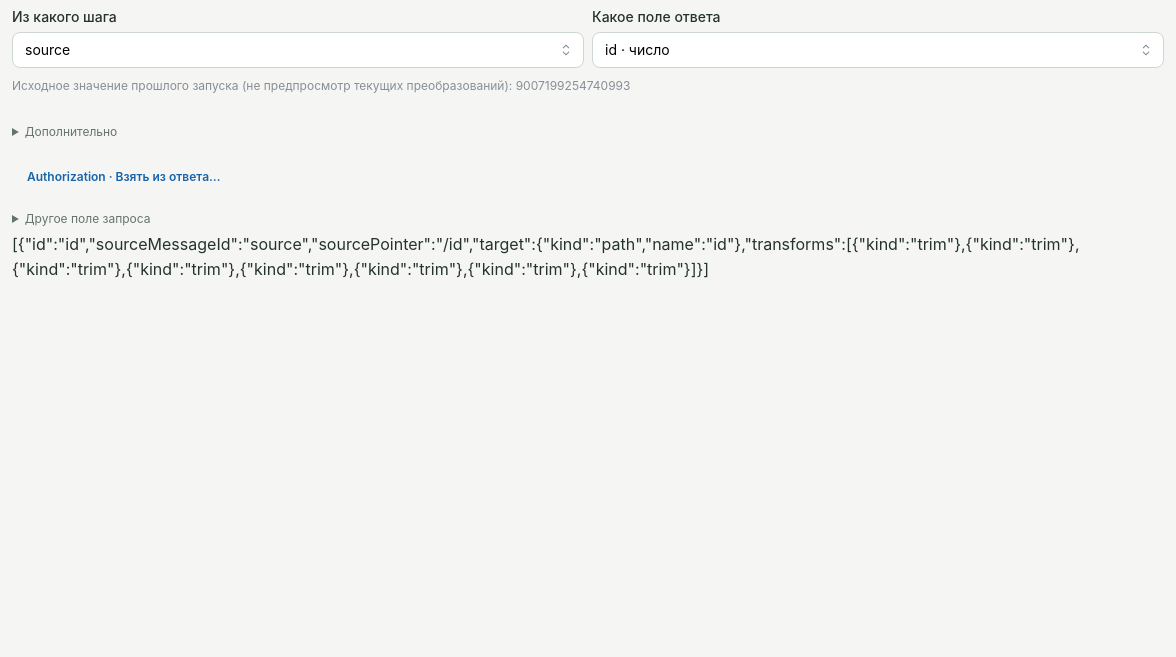
it: ScenarioDataBindingsEditor › stops at eight transforms and allows another after removing one
Click the heading "Дополнительно" at (71, 132), box [25, 124, 117, 139]
(page scrolled)
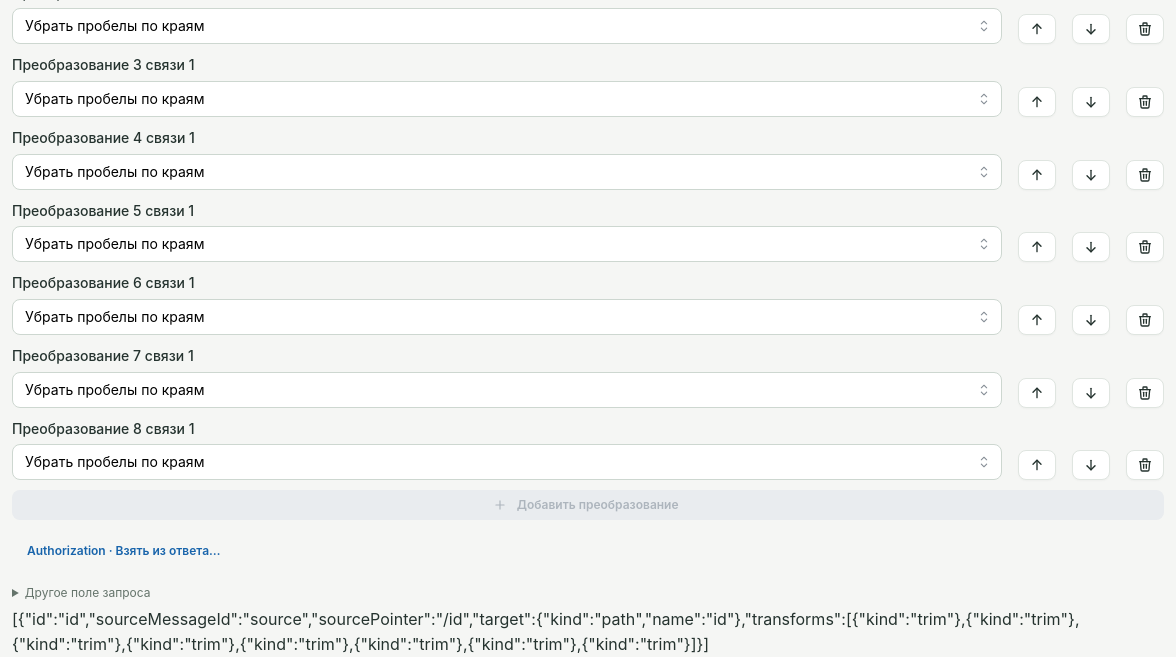
Now the button with aria-label "Добавить преобразование связи 1" is disabled, box [12, 490, 1164, 520]
Click the button named "Удалить преобразование 8 связи 1" at (1145, 465), box [1126, 450, 1164, 480]
(page scrolled)
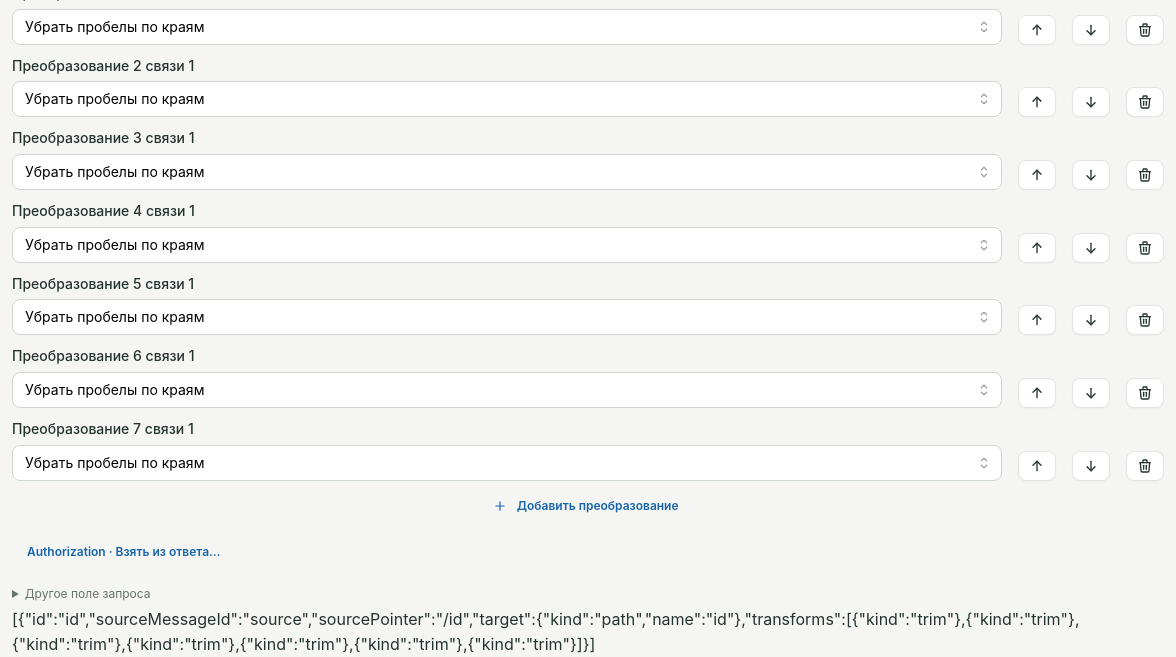
Now the button with aria-label "Добавить преобразование связи 1" is enabled, box [12, 491, 1164, 521]
